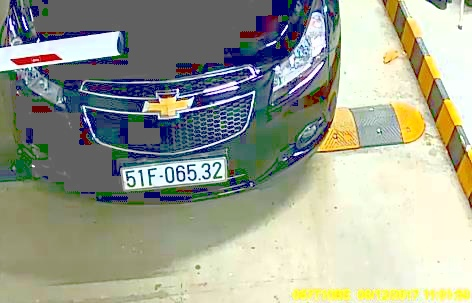plate: (118, 161, 229, 194)
